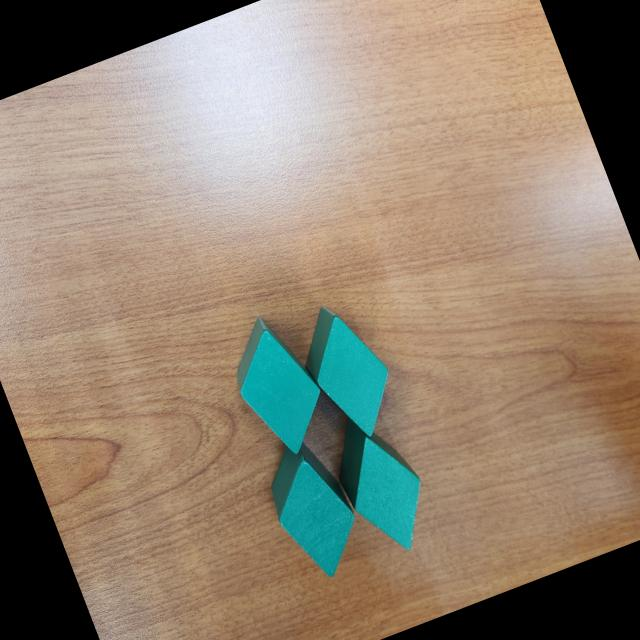green: (320, 402, 442, 564), (217, 306, 339, 468), (287, 294, 409, 448), (254, 433, 373, 588)
